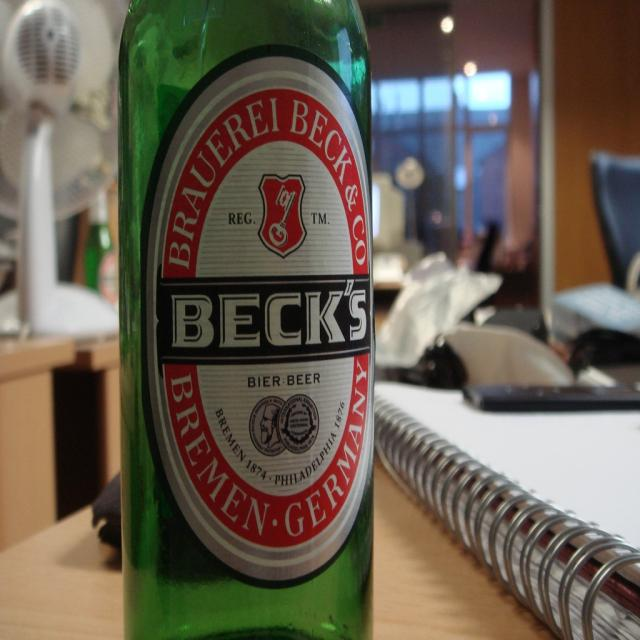becks: (146, 56, 377, 581)
